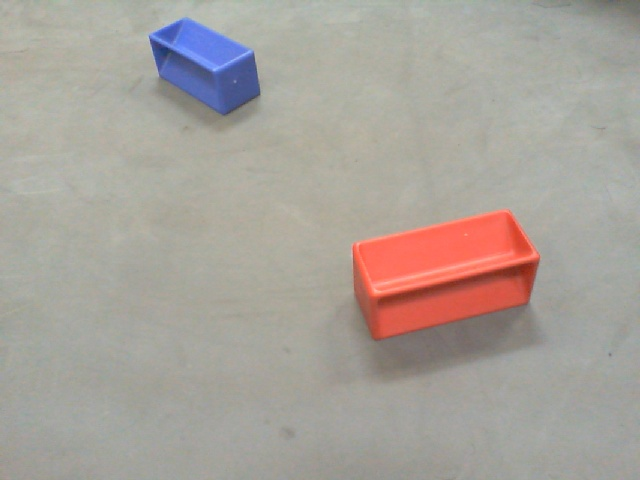BlueSample: (142, 12, 263, 117)
RedSample: (351, 204, 541, 341)
